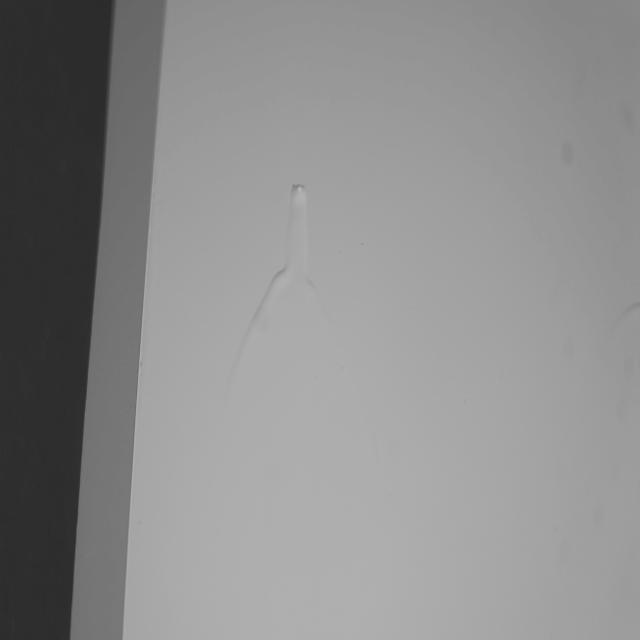paint drips: (234, 180, 344, 376), (600, 284, 638, 351)
